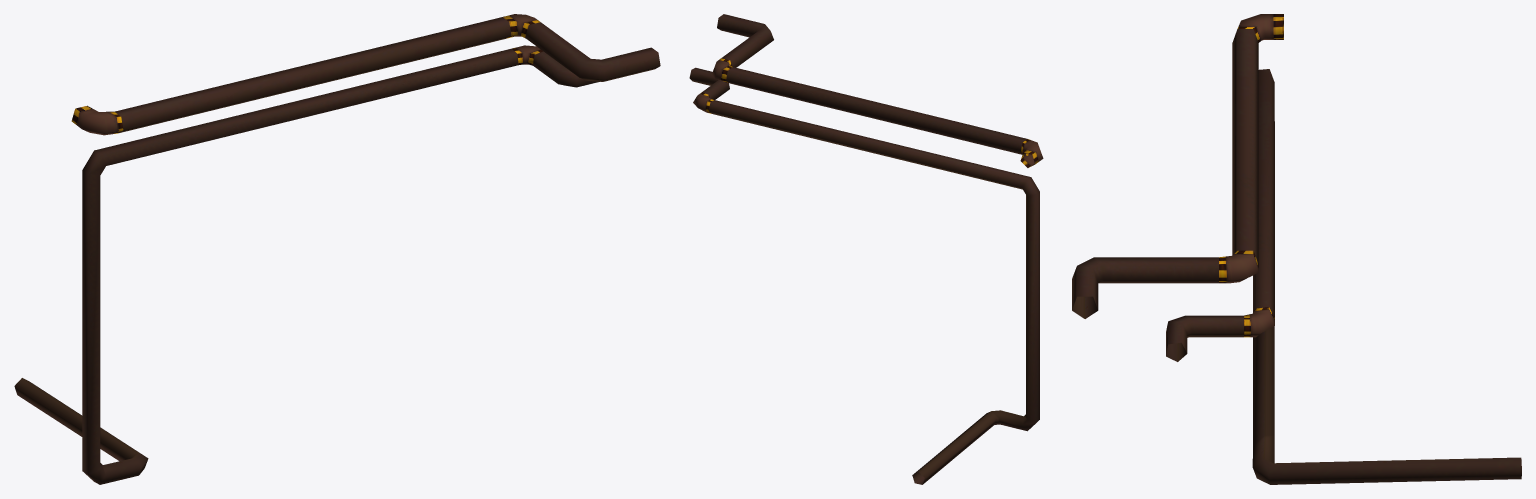
The model's file is sundries_21_f28a3124__ZombiesII_depot_diffuse_03_573b45f4_c1f257.obj.
3 renders of one model, left to right at view 1: azimuth 30°, elevation 25°; view 2: azimuth 150°, elevation 25°; view 3: azimuth 270°, elevation 25°, orthographic. The views are drawn at different scales.
Bounding box in the file's own units: 14.67 × 10.45 × 9.79.
Materials: 1 (1 with a texture image).
